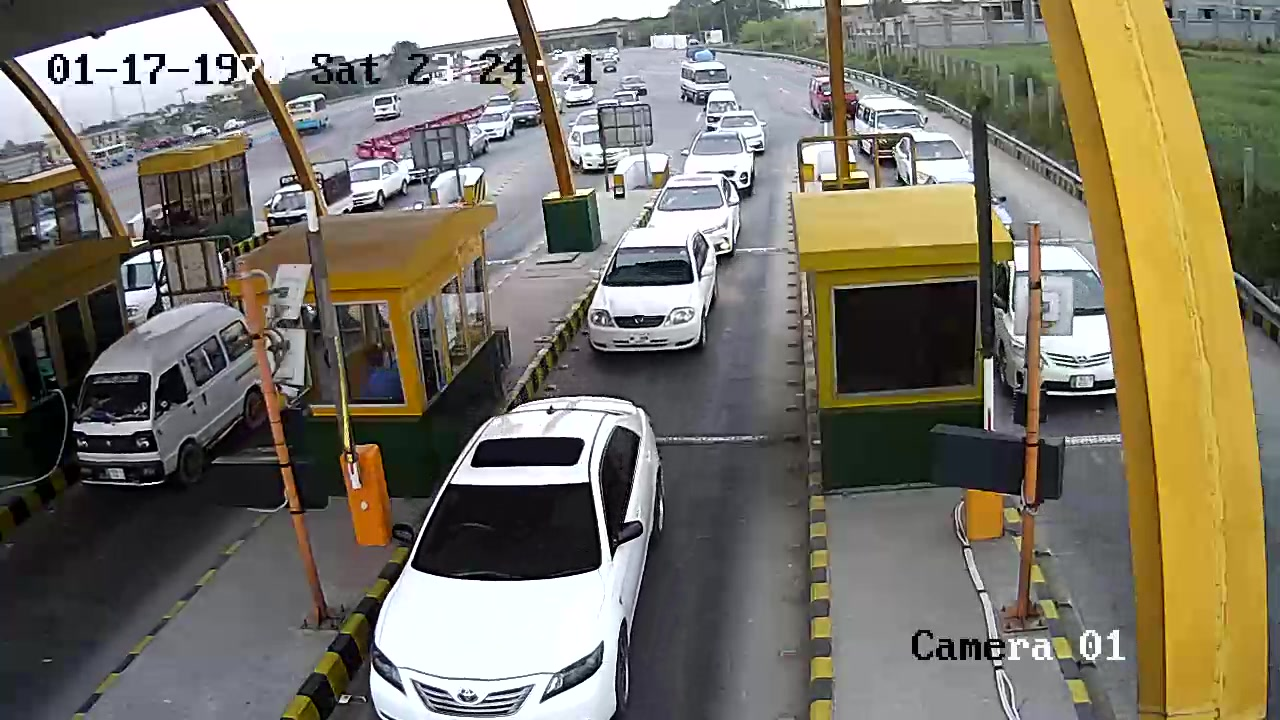F1: (584, 224, 721, 368)
